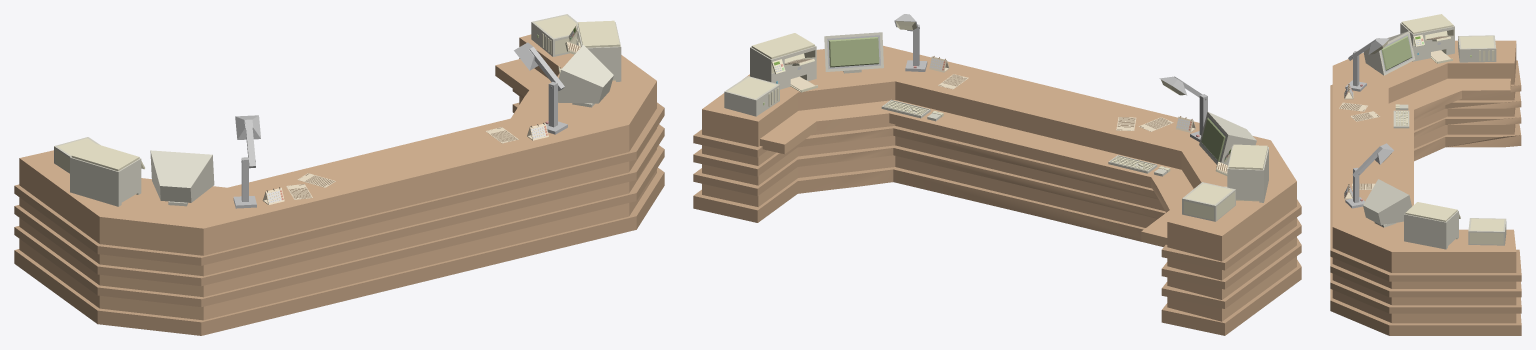
Rendered from finished table.fbx.
3 views of the same model, side by side, from view 1: azimuth 30°, elevation 25°; view 2: azimuth 150°, elevation 25°; view 3: azimuth 270°, elevation 25° (orthographic). The views are drawn at different scales.
Visible parts, largest first — view 1: Null_3; view 2: Null_3; view 3: Null_3.
Part boxes in pixels (box(x1,y1,x2,y2)): Null_3: box(14, 14, 664, 335); Null_3: box(693, 14, 1301, 335); Null_3: box(1330, 14, 1521, 335).
Size of the model in its own units: 233 by 68.95 by 87.7.
